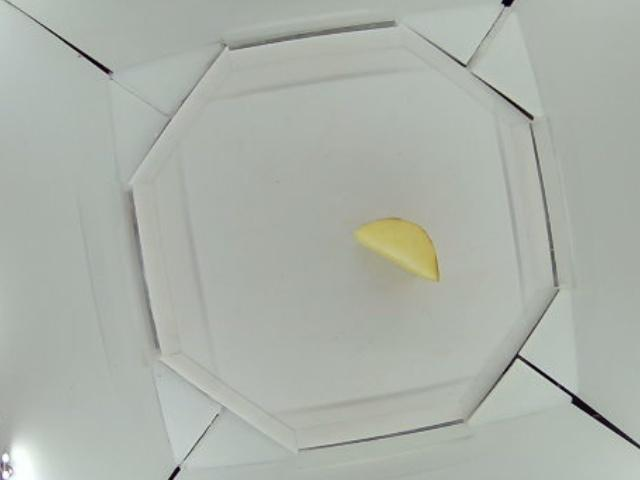Potato: (354, 216, 441, 283)
